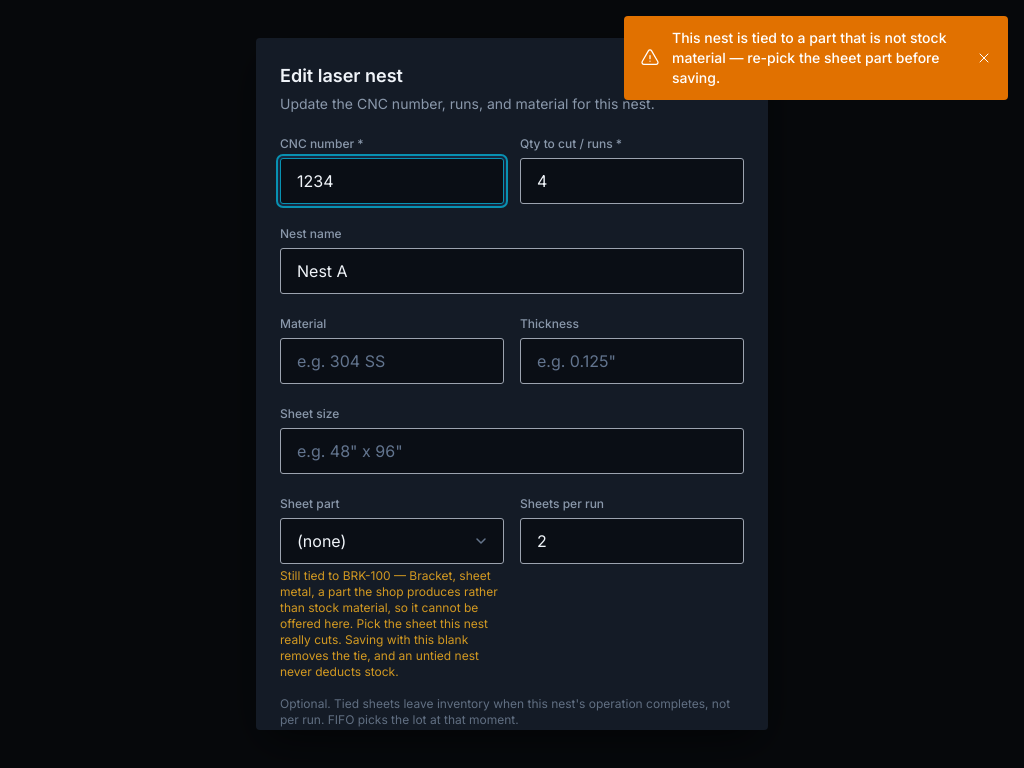
edit path: a legacy produced-part tie is never dropped by accident › cancelling leaves the tie alone and keeps the planner on the form
expect the message is shown: met, box [624,16,1008,100]
Replace the text in the field labelled "CNC number *" with "9999". click: (392, 181)
box: [280,158,504,204]
(page scrolled)
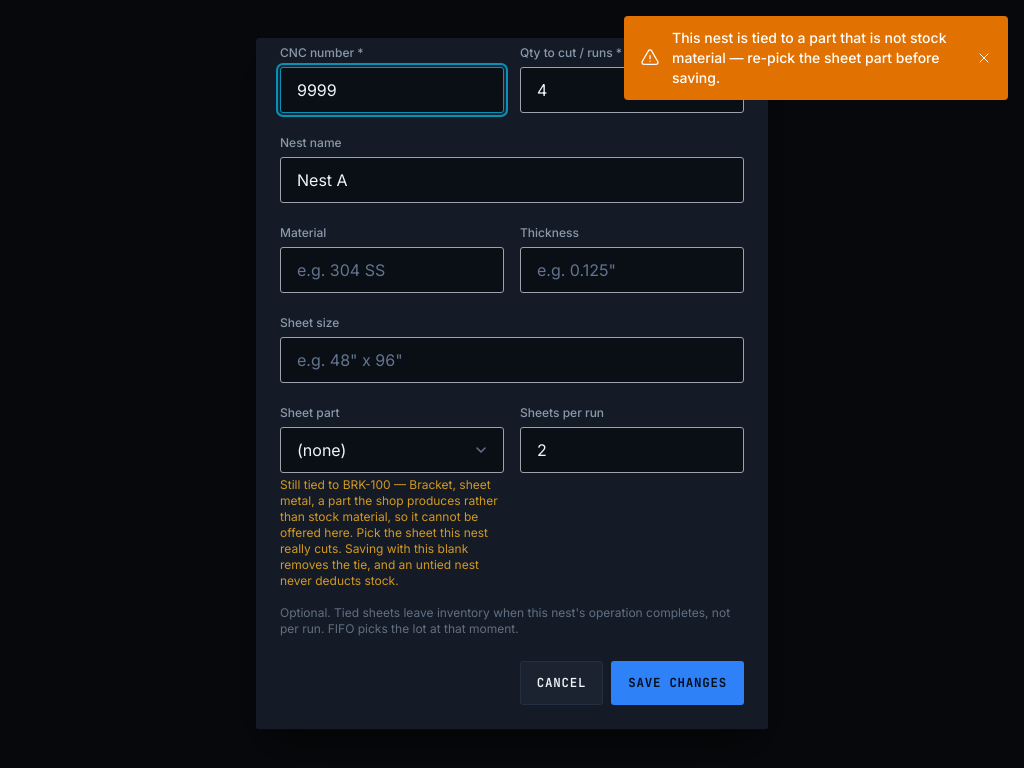
Click the button "Save changes". click: (678, 683)
box: [611,661,744,705]
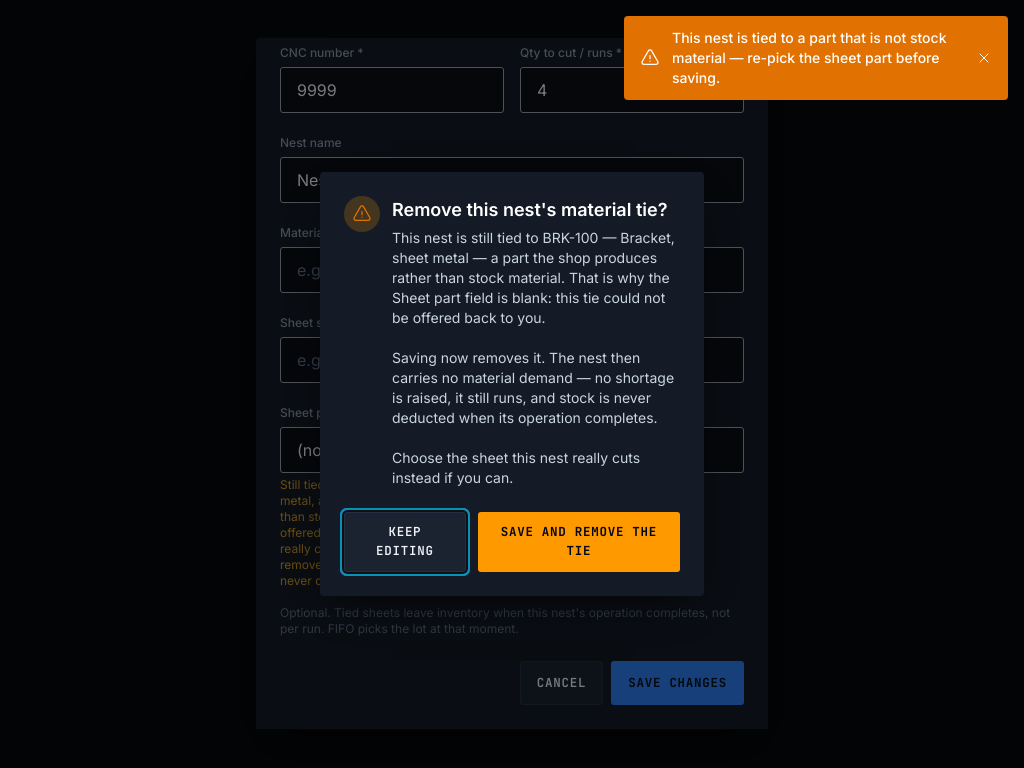
Click the button "Keep editing". click: (405, 542)
box: [344,512,466,572]
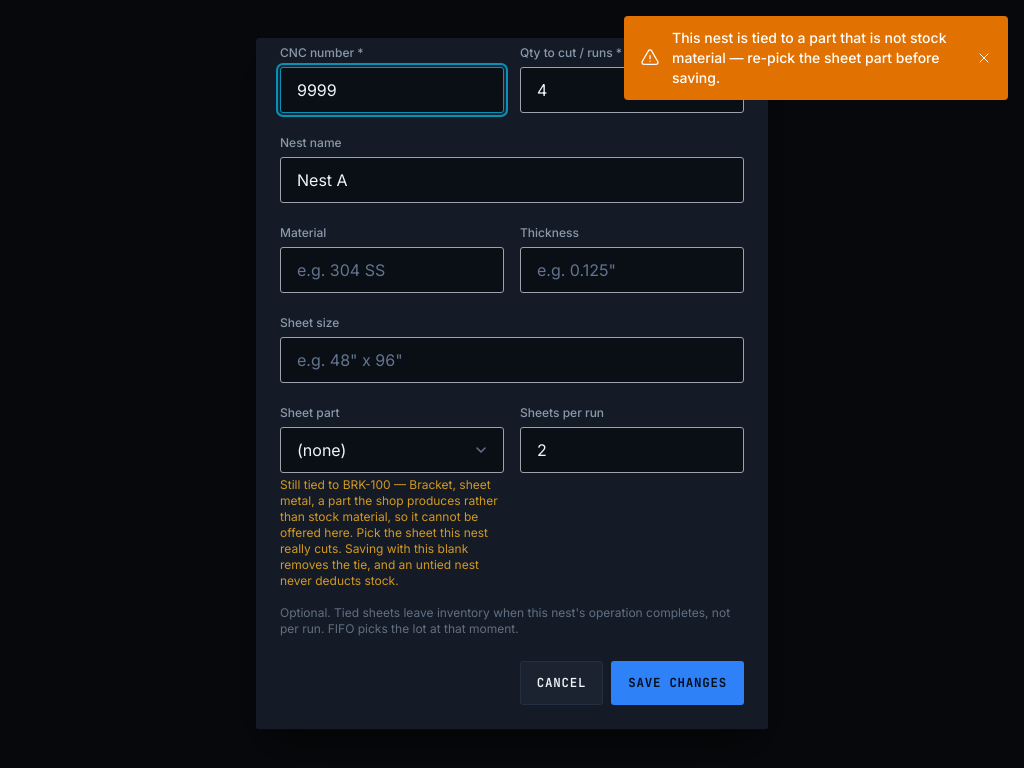
expect the heading "Remove this nest's material tie?" is gone: met
